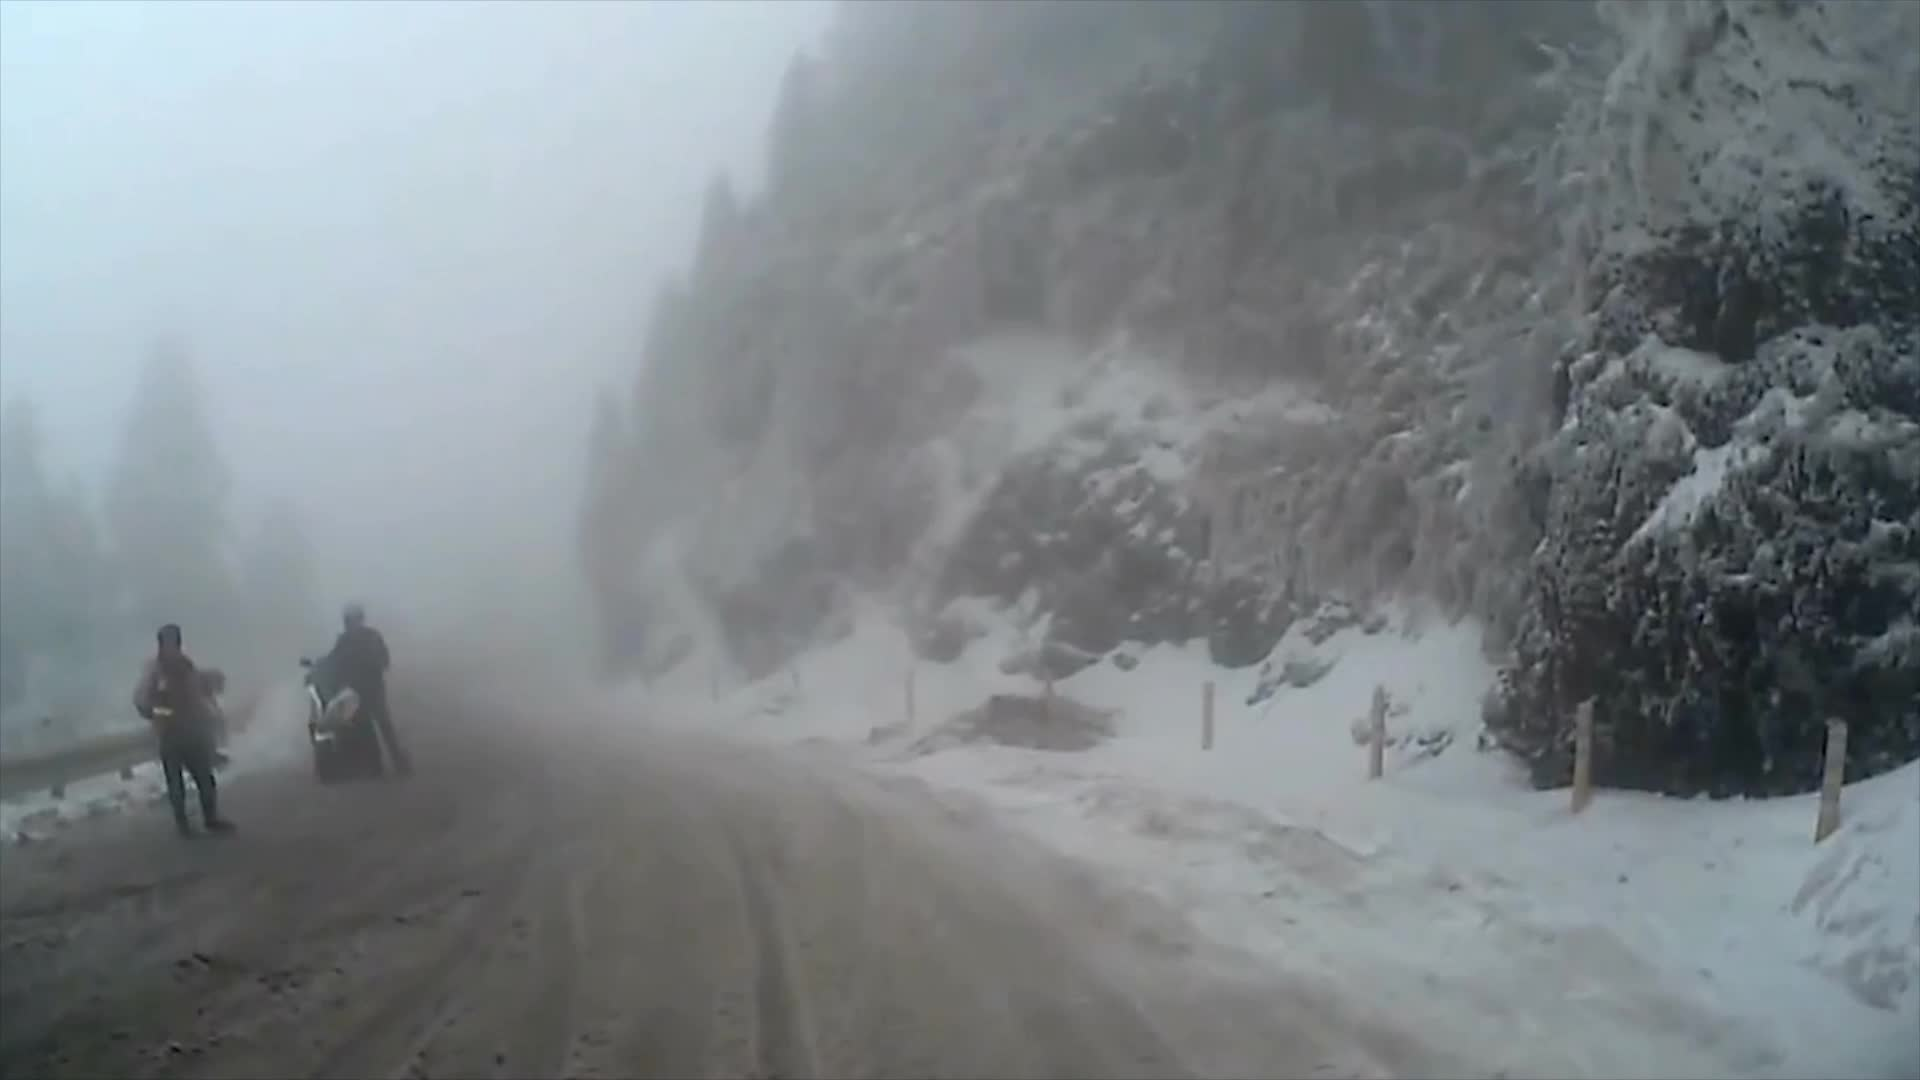pedestrian: (141, 625, 239, 840), (321, 607, 416, 794)
